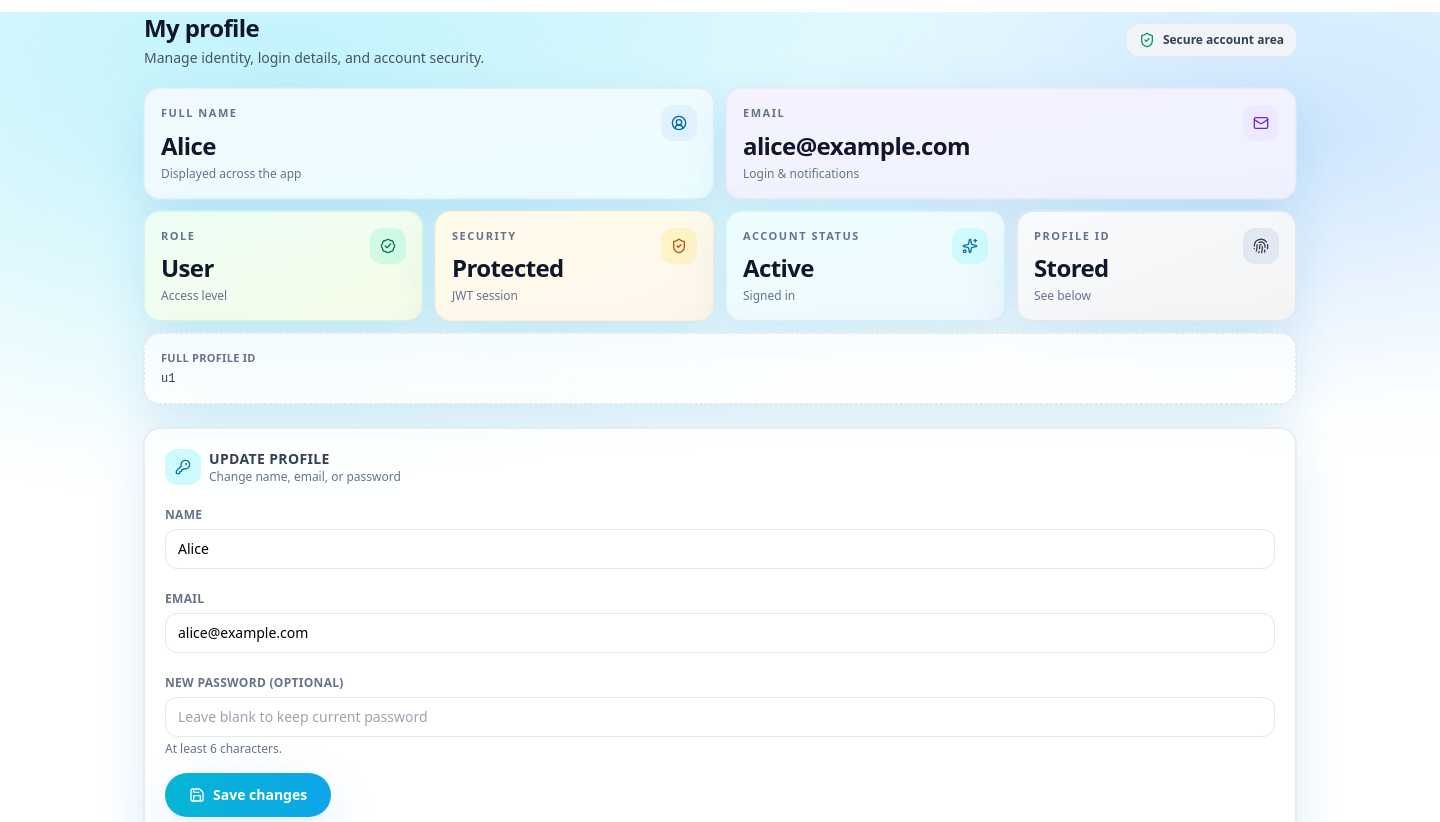
Test: updates profile and shows success message
Replace the text in the 1st field with "Alice Updated" at (720, 548), box left=165, top=528, right=1275, bottom=568
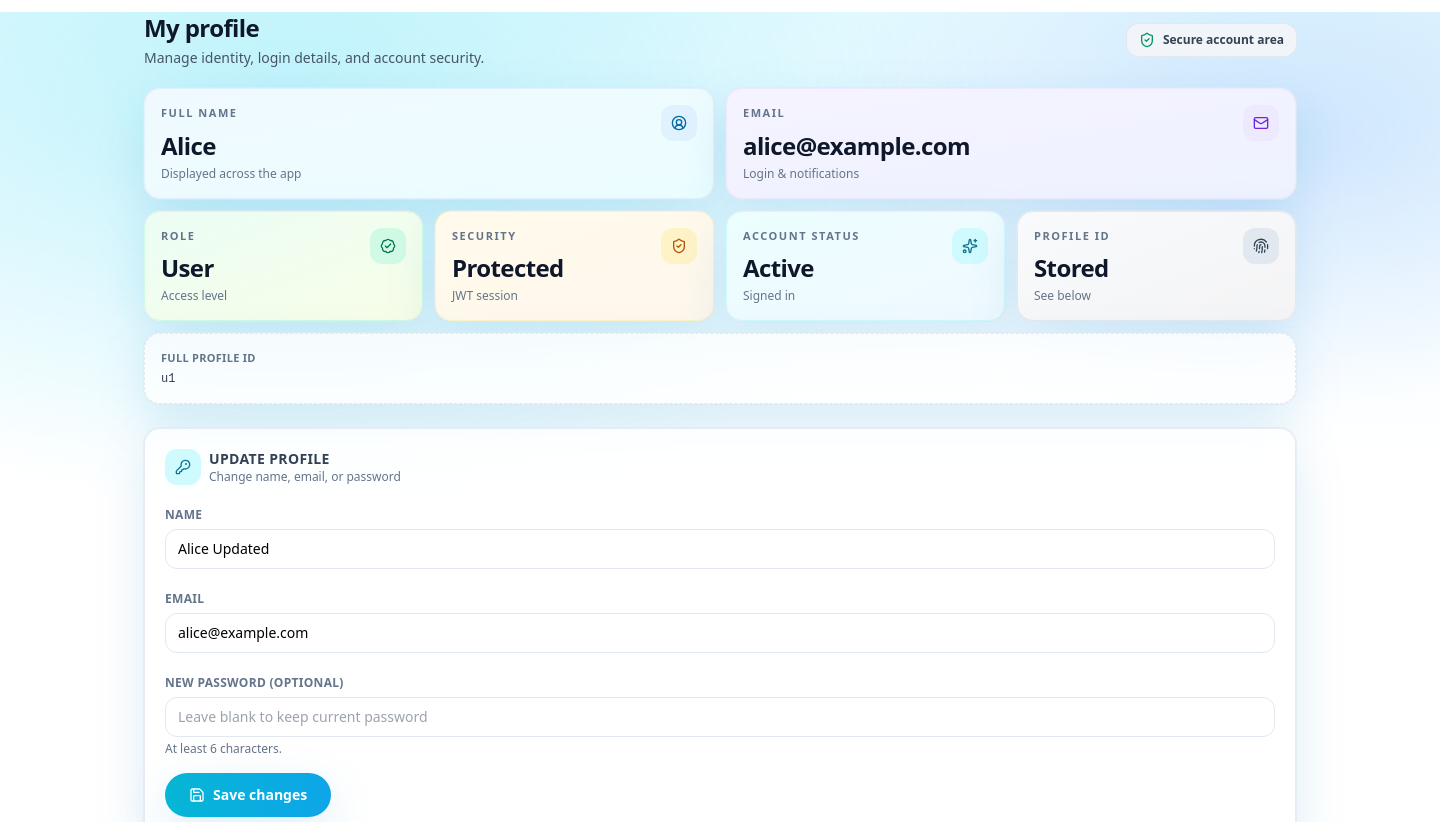
Replace the text in the 2nd field with "alice.updated@example.com" at (720, 632), box left=165, top=612, right=1275, bottom=652
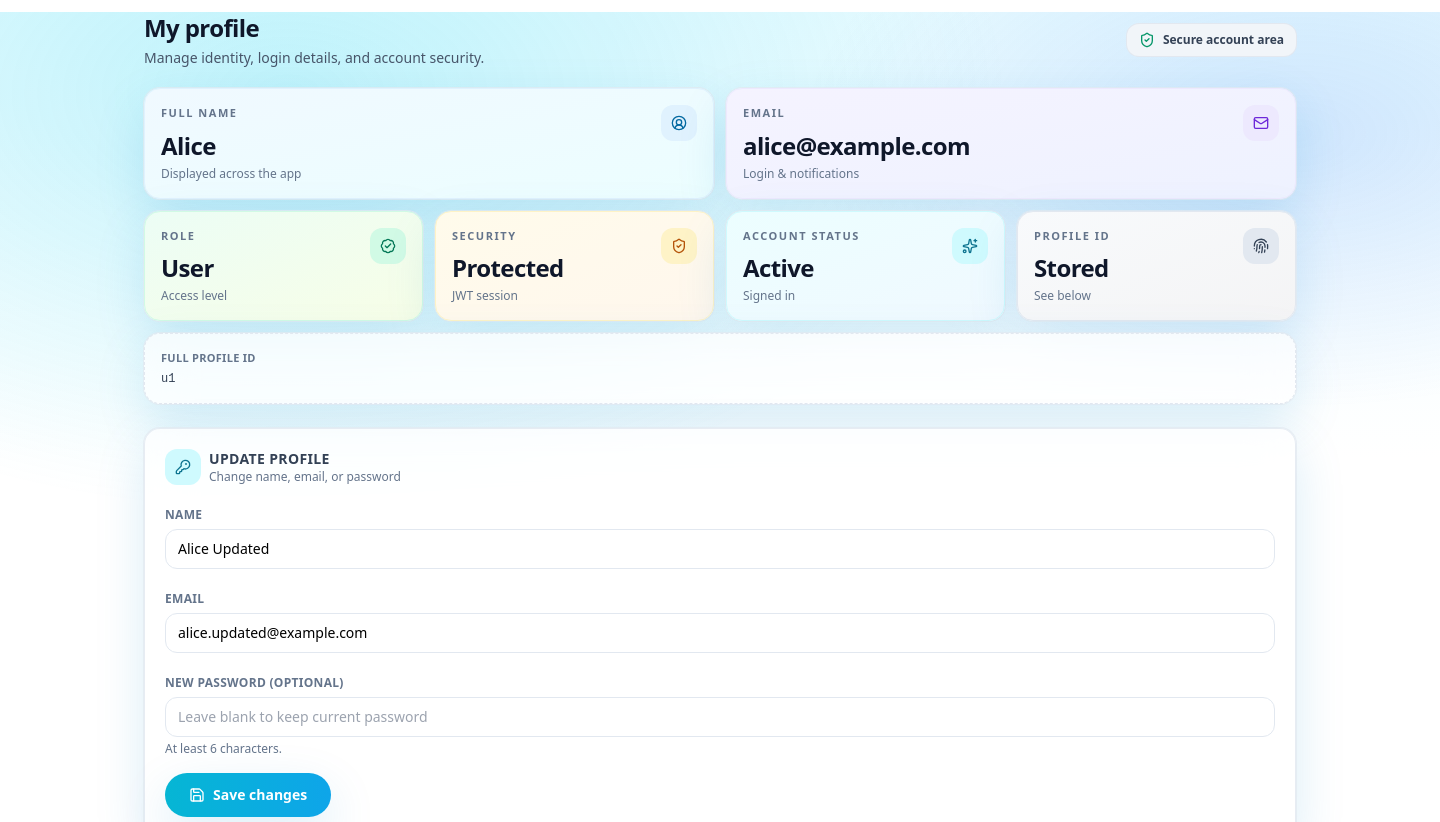
Click the button "Save changes" at (248, 794), box left=165, top=772, right=331, bottom=816
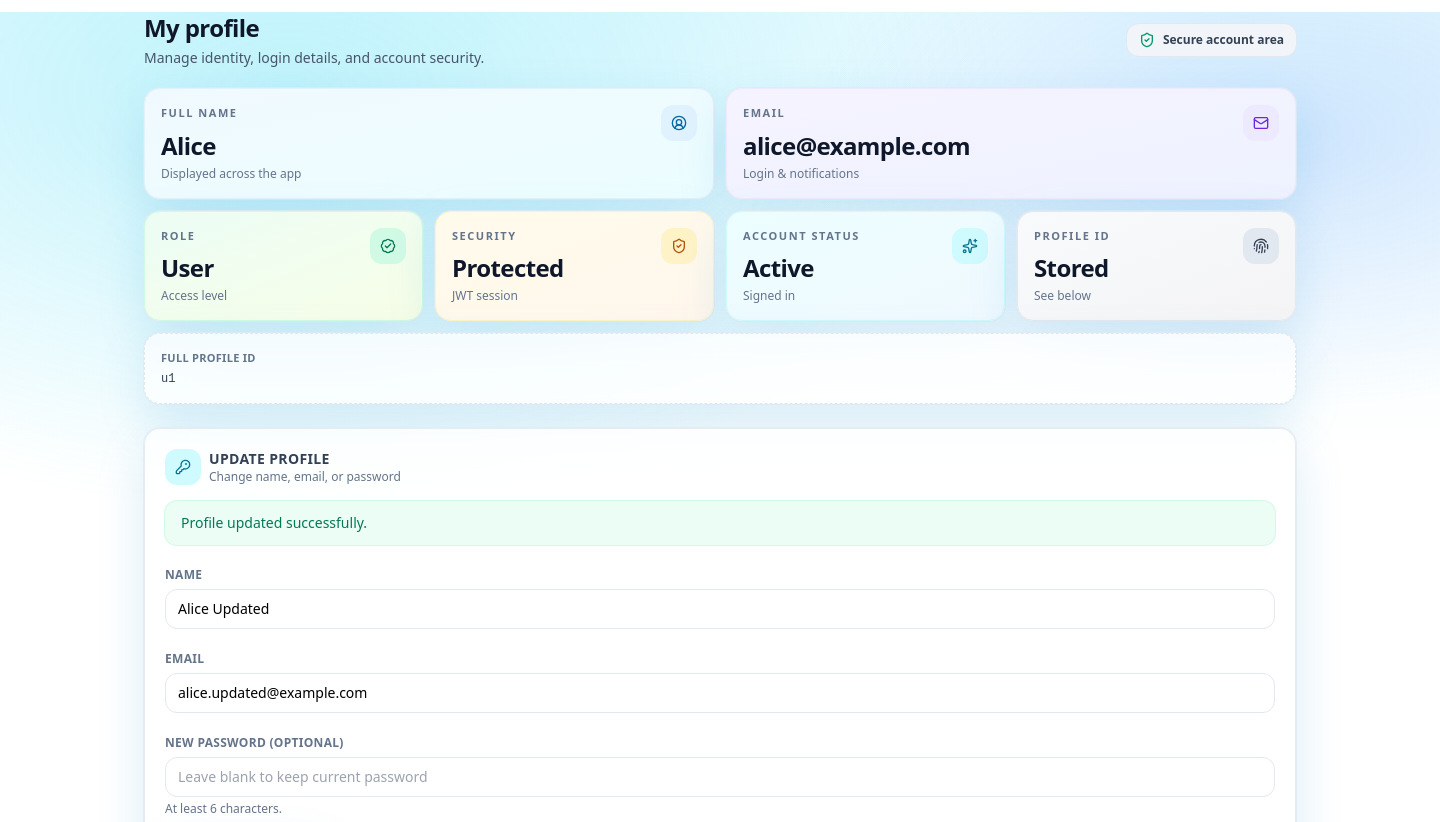
Result: the text "Profile updated successfully." is shown at left=165, top=500, right=1275, bottom=544
